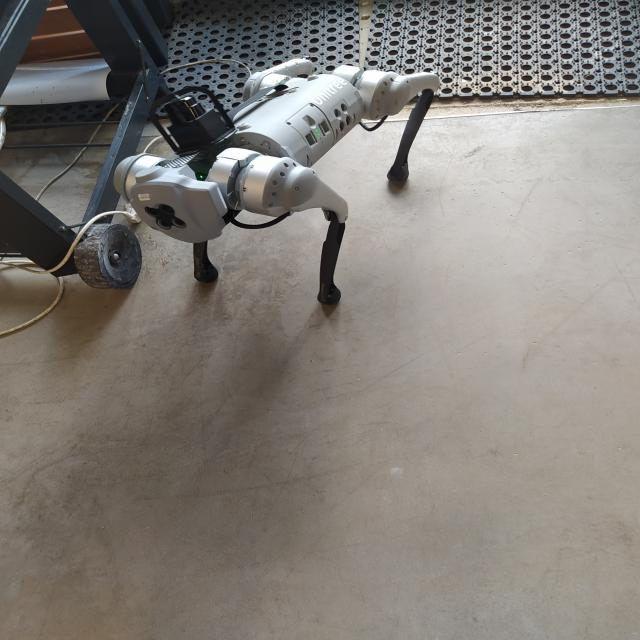unitree-go1-robot: (108, 39, 451, 337)
